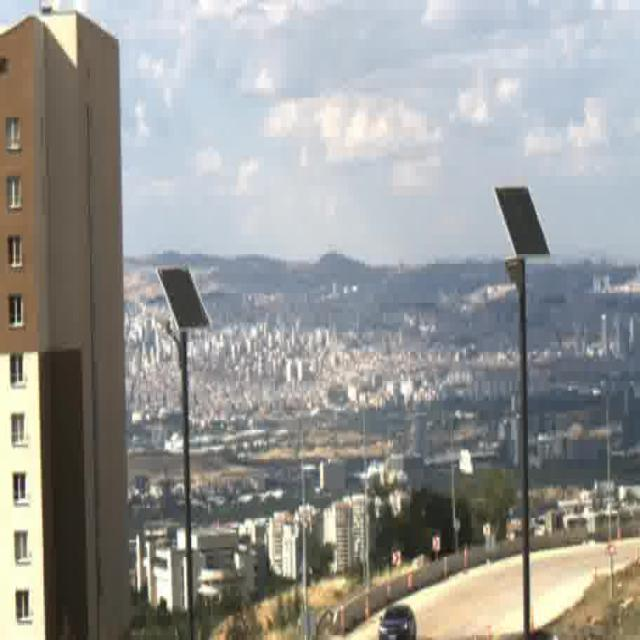Car: (379, 603, 417, 640)
